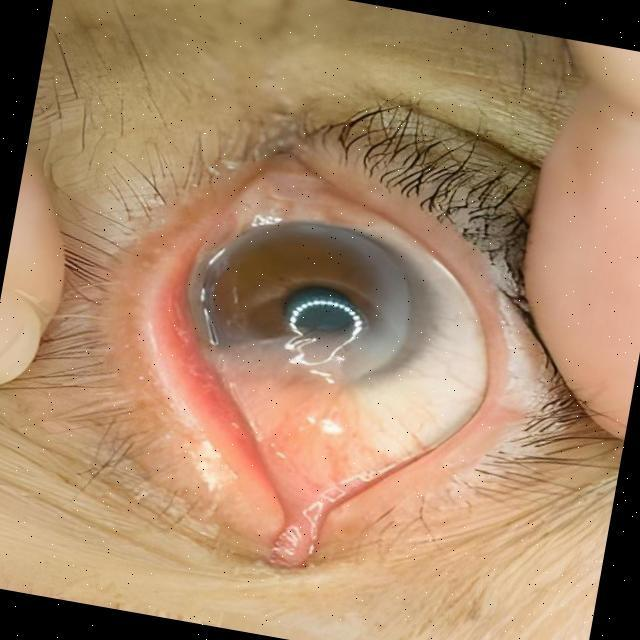Pterygium: (183, 304, 422, 574)
